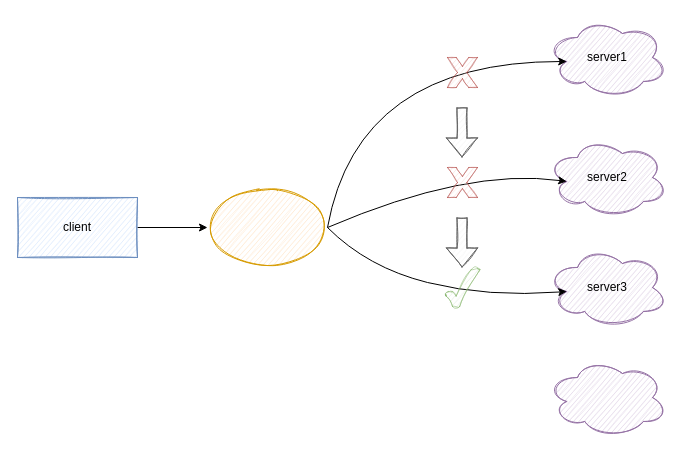
The diagram is 685 pixels wide and 455 high, and some of its shapes have lost their labels. Here are the shapes that lost their labels. From the top down, the box of each, then its label:
(206, 186, 328, 268): tnc
(546, 356, 668, 438): server4
